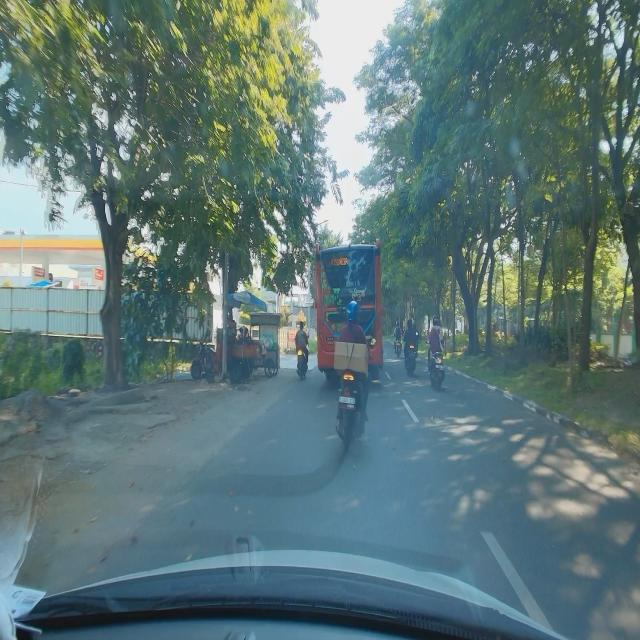bus: (316, 237, 384, 381)
